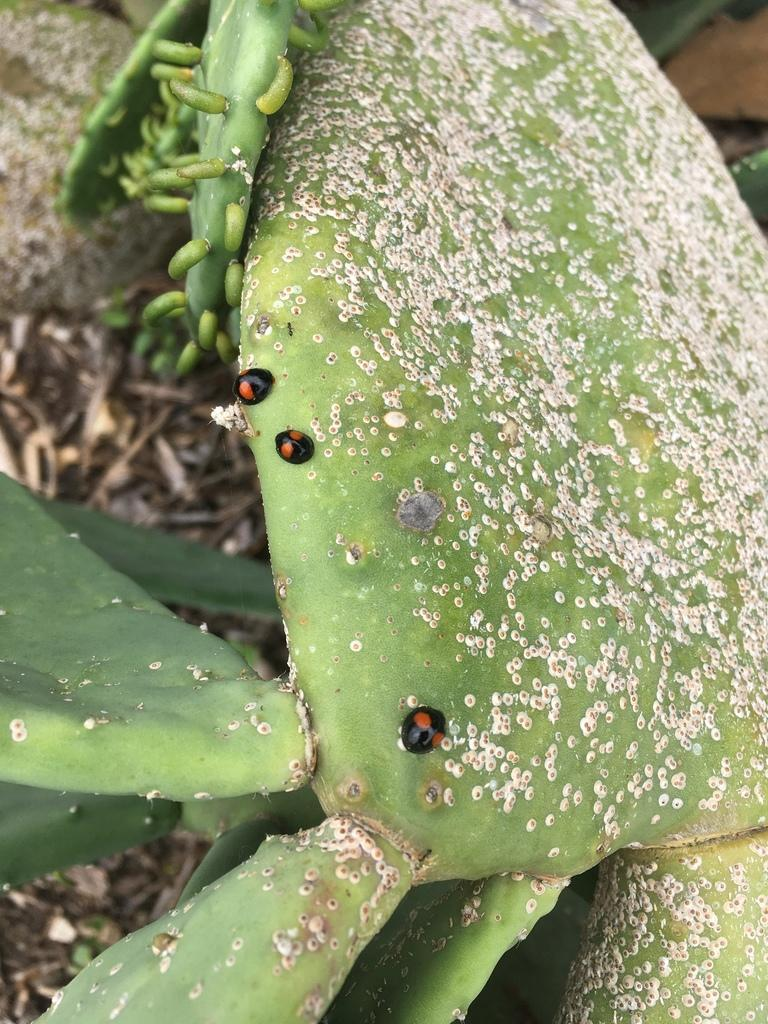ladybug: (400, 705, 450, 758), (274, 424, 320, 467), (232, 367, 278, 408)
